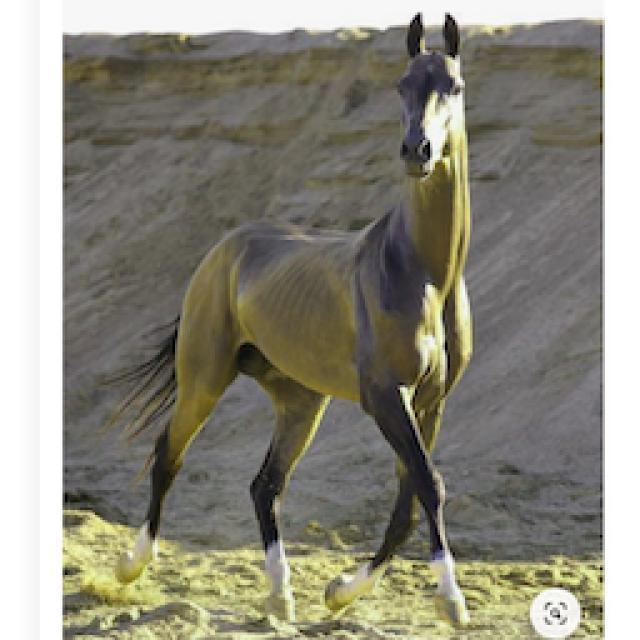Horse: (100, 8, 485, 632)
